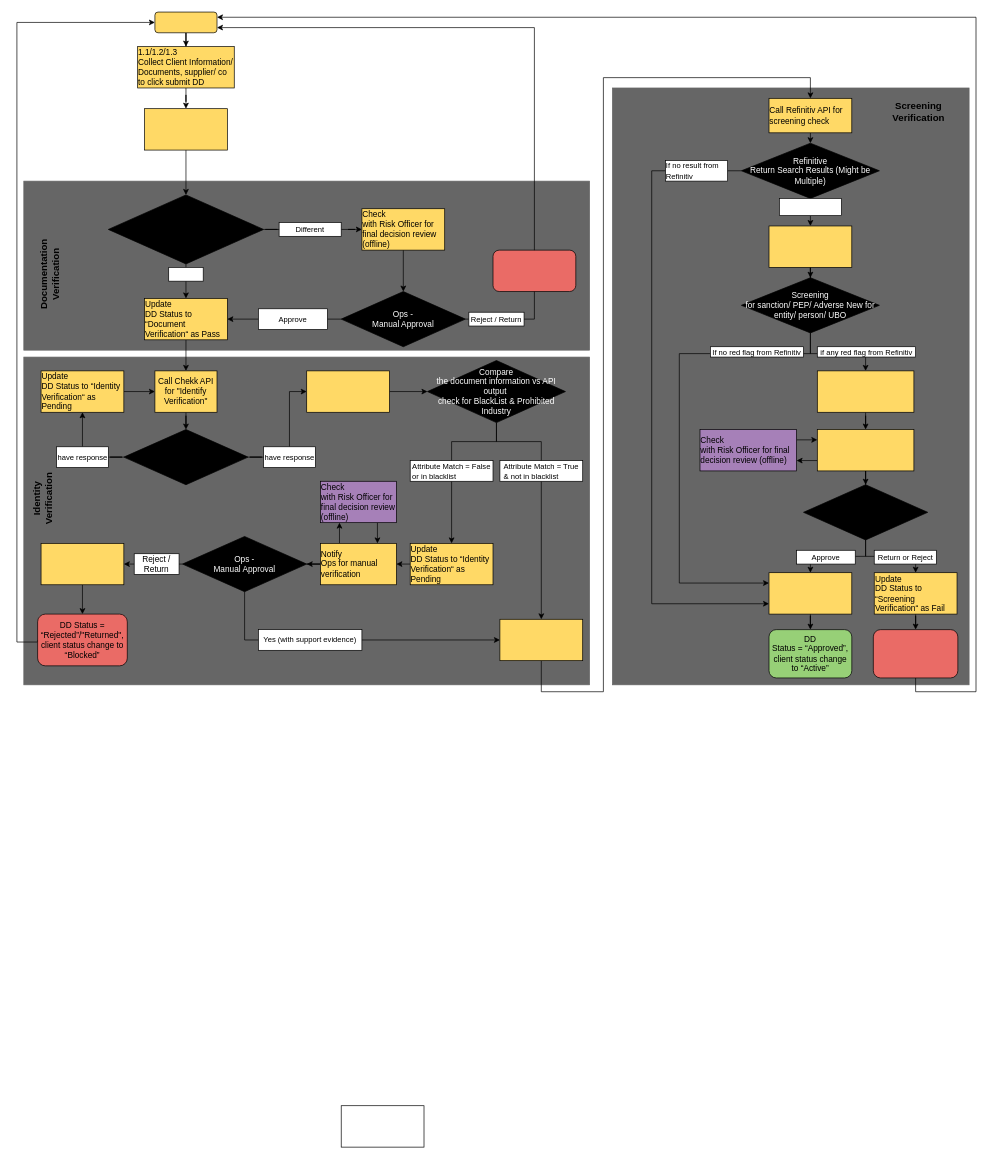
The diagram is 994 pixels wide and 1159 high, and some of its shapes have lost their labels. The shapes that lost their labels are listed below. From the top down, each one's centre as x and y in pixels, then its label:
point 185,22: start
point 185,129: 1.4 Ops to be notified that new DD is pending for review
point 810,207: If any result from Refinitiv
point 186,229: Ops manually verify the system output against client information given
point 810,246: Ops to Select Matched Client and Call Refinitiv API again
point 185,274: same
point 534,270: DD Status = “Rejected”, client status change to “Blocked”
point 348,391: Ops to select form the possible UBOs
point 865,391: Update DD Status to “Screening Verification“ as Pending
point 185,457: API response from chekk
point 865,450: Ops to manual verify the screening result
point 865,512: Manual Approval
point 82,564: Update DD Status to “Identity Verification“ as Fail
point 810,593: Update DD Status to “Screening Verification“ as Pass
point 541,640: Update DD Status to “Identity Verification“ as Pass
point 915,653: DD Status = “Rejected” or "Returned", client status change to “Blocked”
